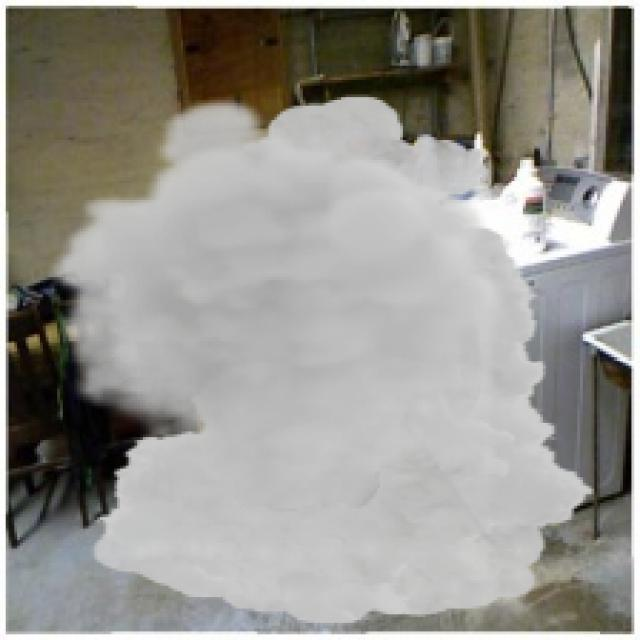Smoke: (48, 94, 598, 626)
